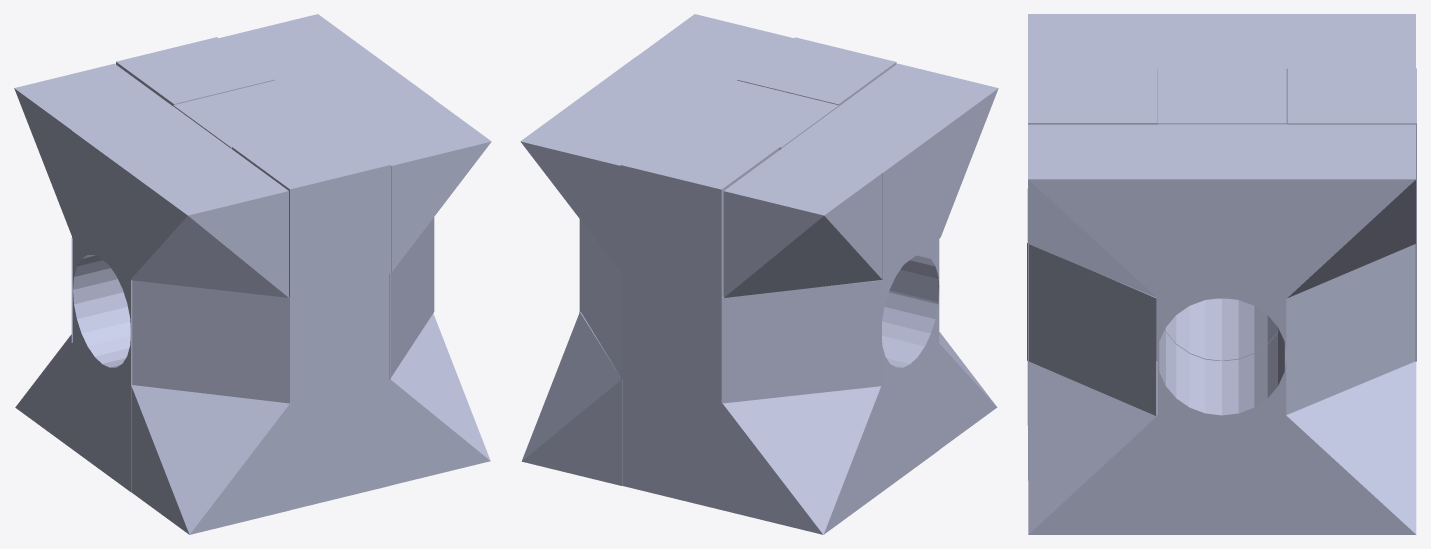
3 views of the same model, side by side, from view 1: azimuth 30°, elevation 25°; view 2: azimuth 150°, elevation 25°; view 3: azimuth 270°, elevation 25° (orthographic). The views are drawn at different scales.
Visible parts, largest first — view 1: modelo003; view 2: modelo003; view 3: modelo003.
Part boxes in pixels (box(x1,y1,x2,y2)): modelo003: box(14, 14, 491, 534); modelo003: box(520, 14, 998, 534); modelo003: box(1027, 14, 1416, 534).
Size of the model in its own units: 0.1008 by 0.1016 by 0.1004.
